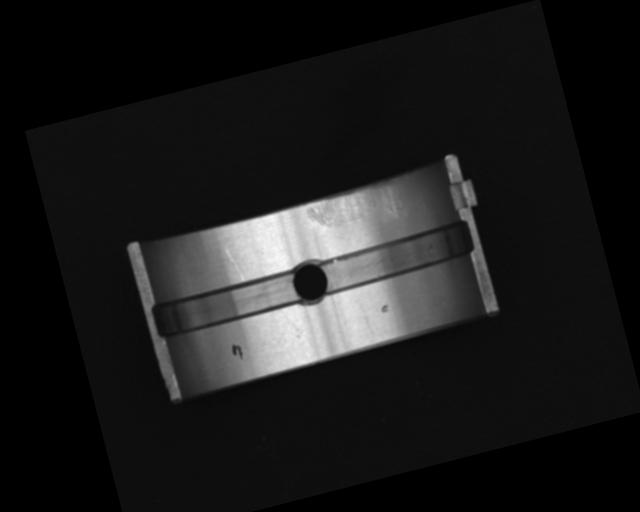blot: (230, 340, 245, 361)
bruise: (379, 303, 390, 313)
gap: (313, 218, 477, 297), (147, 266, 303, 341)
hole: (286, 253, 332, 308)
nick: (223, 242, 244, 284), (359, 303, 373, 335)
scratch: (302, 176, 407, 239)
